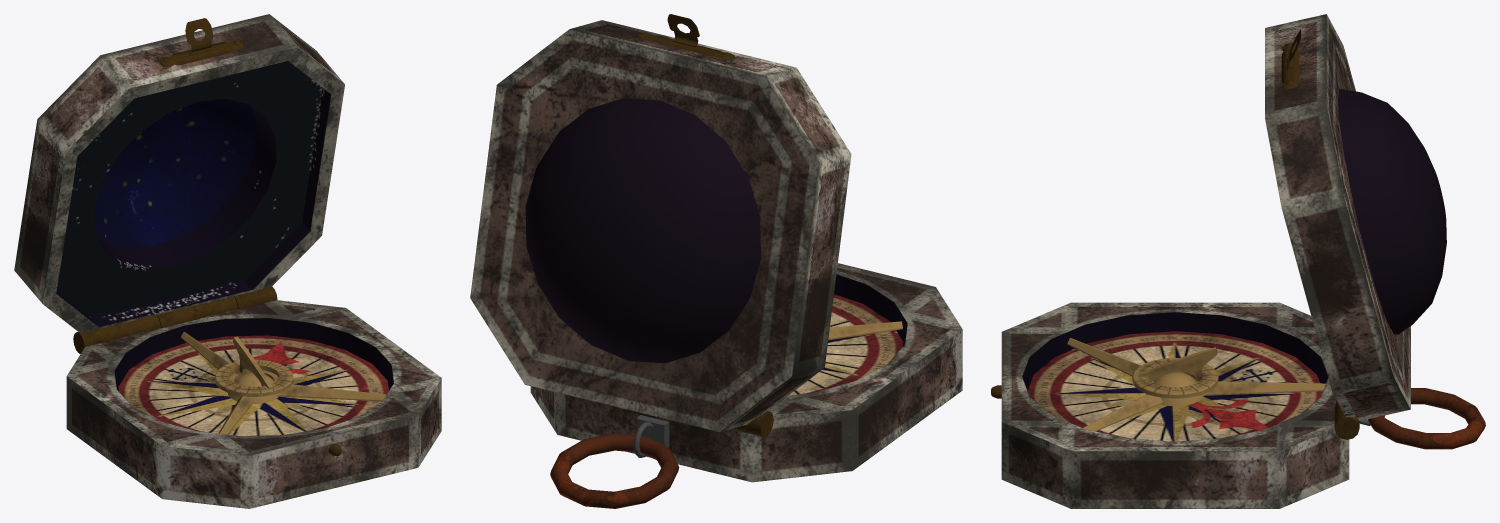
File: pirate_compass.glb
The picture shows the model from 3 angles, left to right: view 1: azimuth 30°, elevation 25°; view 2: azimuth 150°, elevation 25°; view 3: azimuth 270°, elevation 25°; orthographic projection. The views are drawn at different scales.
Visible parts, largest first — view 1: Compass; view 2: Compass; view 3: Compass.
Part boxes in pixels (x1,y1,x2,y2): Compass: (14, 14, 441, 508); Compass: (470, 14, 962, 508); Compass: (991, 14, 1485, 508).
Bounding box in the file's own units: 3.13 × 3.94 × 4.41.
Materials: 1 (1 with a texture image).
